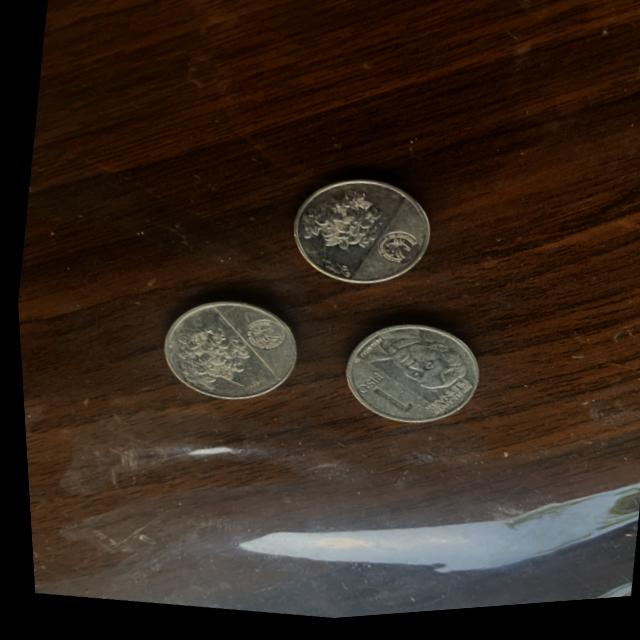1_New_Back: (154, 315, 251, 400), (287, 185, 387, 262)
1_New_Front: (342, 369, 412, 426)
